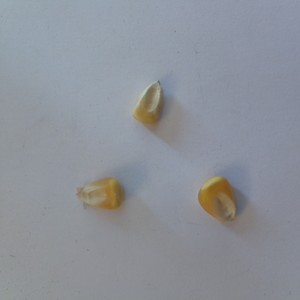maiz: (194, 172, 241, 225), (69, 174, 124, 213), (129, 77, 169, 130)
